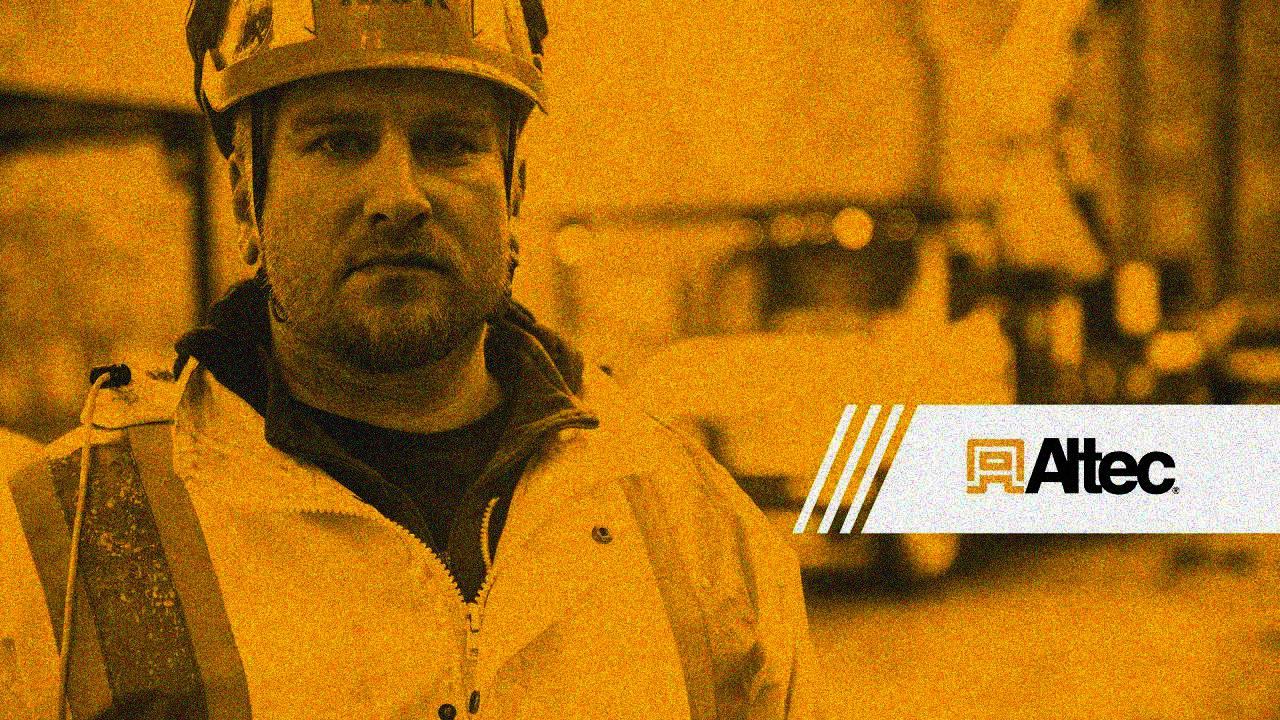helmet: (178, 1, 562, 383)
